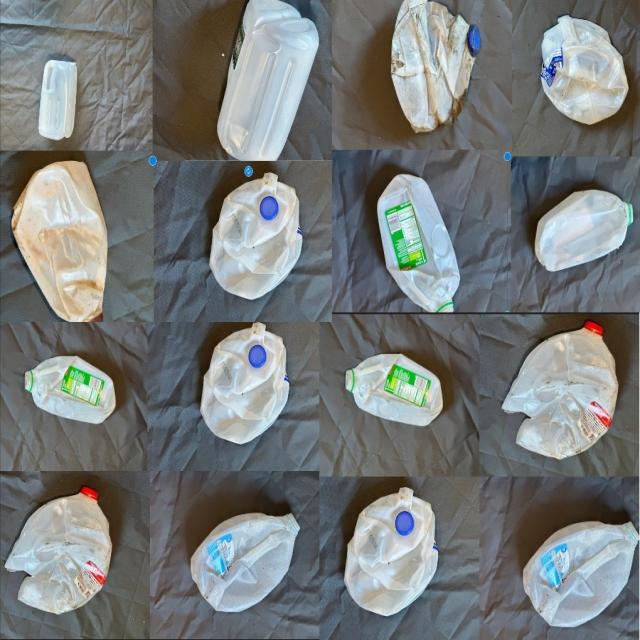milk-jug: (5, 162, 113, 319), (502, 321, 624, 459), (212, 5, 314, 154), (366, 180, 476, 310), (8, 484, 111, 621), (522, 514, 640, 630), (341, 488, 436, 615), (538, 4, 632, 132), (210, 172, 302, 300), (194, 327, 298, 440), (395, 0, 483, 132), (522, 184, 636, 280), (189, 517, 297, 602), (341, 349, 444, 431), (21, 349, 117, 426), (40, 54, 76, 146)
